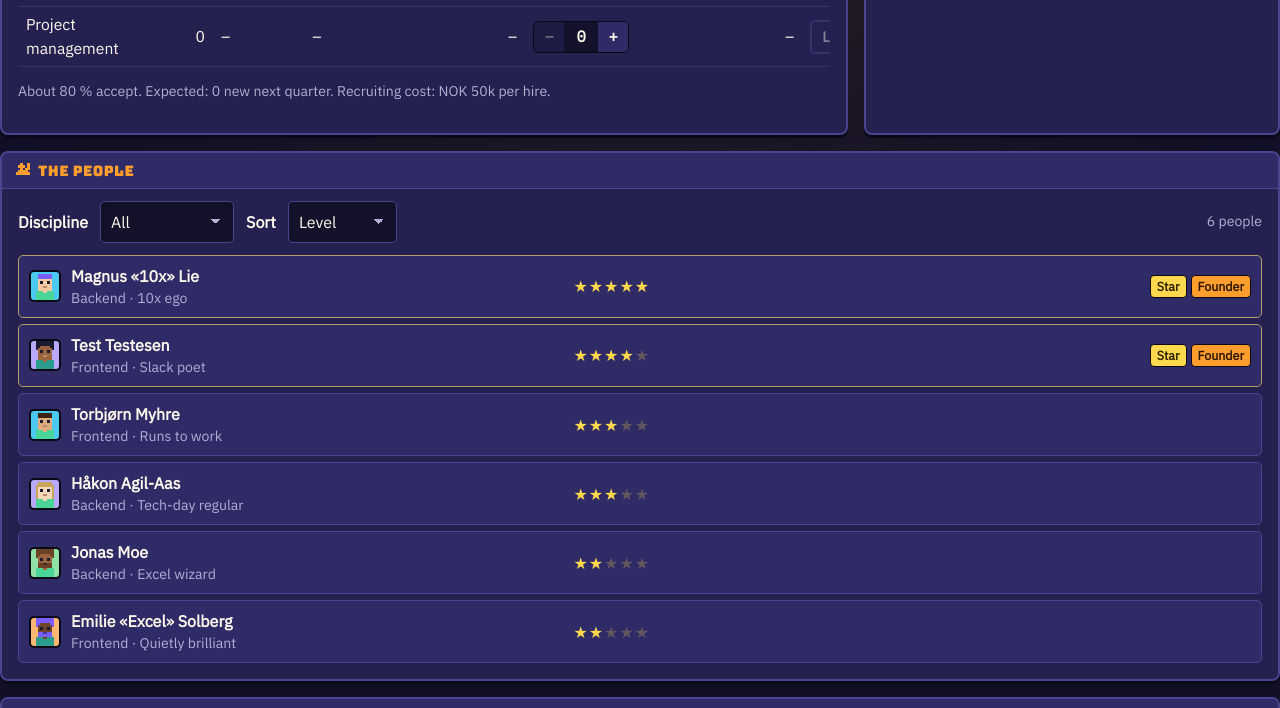
the people on the staff screen › lists the stars too, and opens their card
(page scrolled)
Click the button "Test Testesen Frontend · Slack poet ★★★★★ Star Founder".
click(640, 355)  # box [18,324,1262,387]
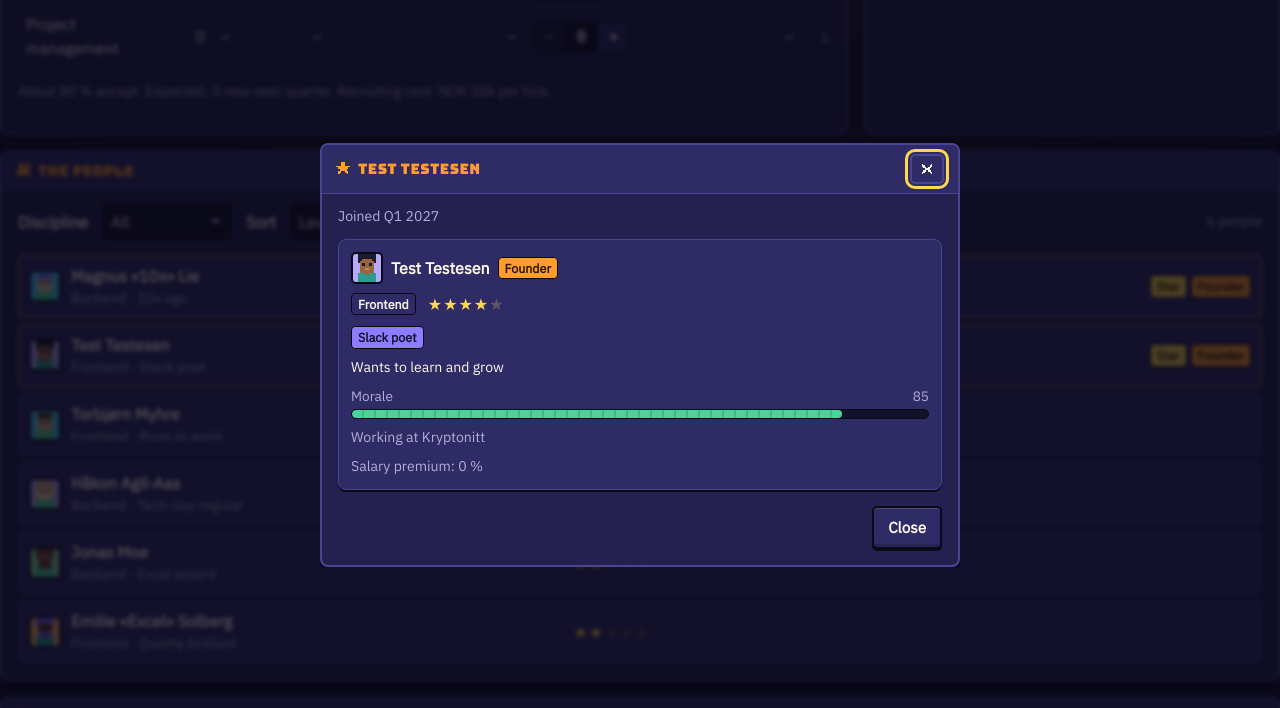
Check: the text "Founder" is shown, box [498,257,558,279]
Check: the text "Joined Q1 2027" is shown, box [338,207,439,225]
